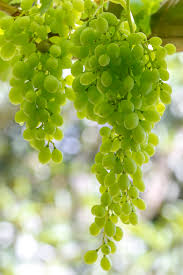grapes: (84, 9, 178, 275), (13, 5, 75, 173)
